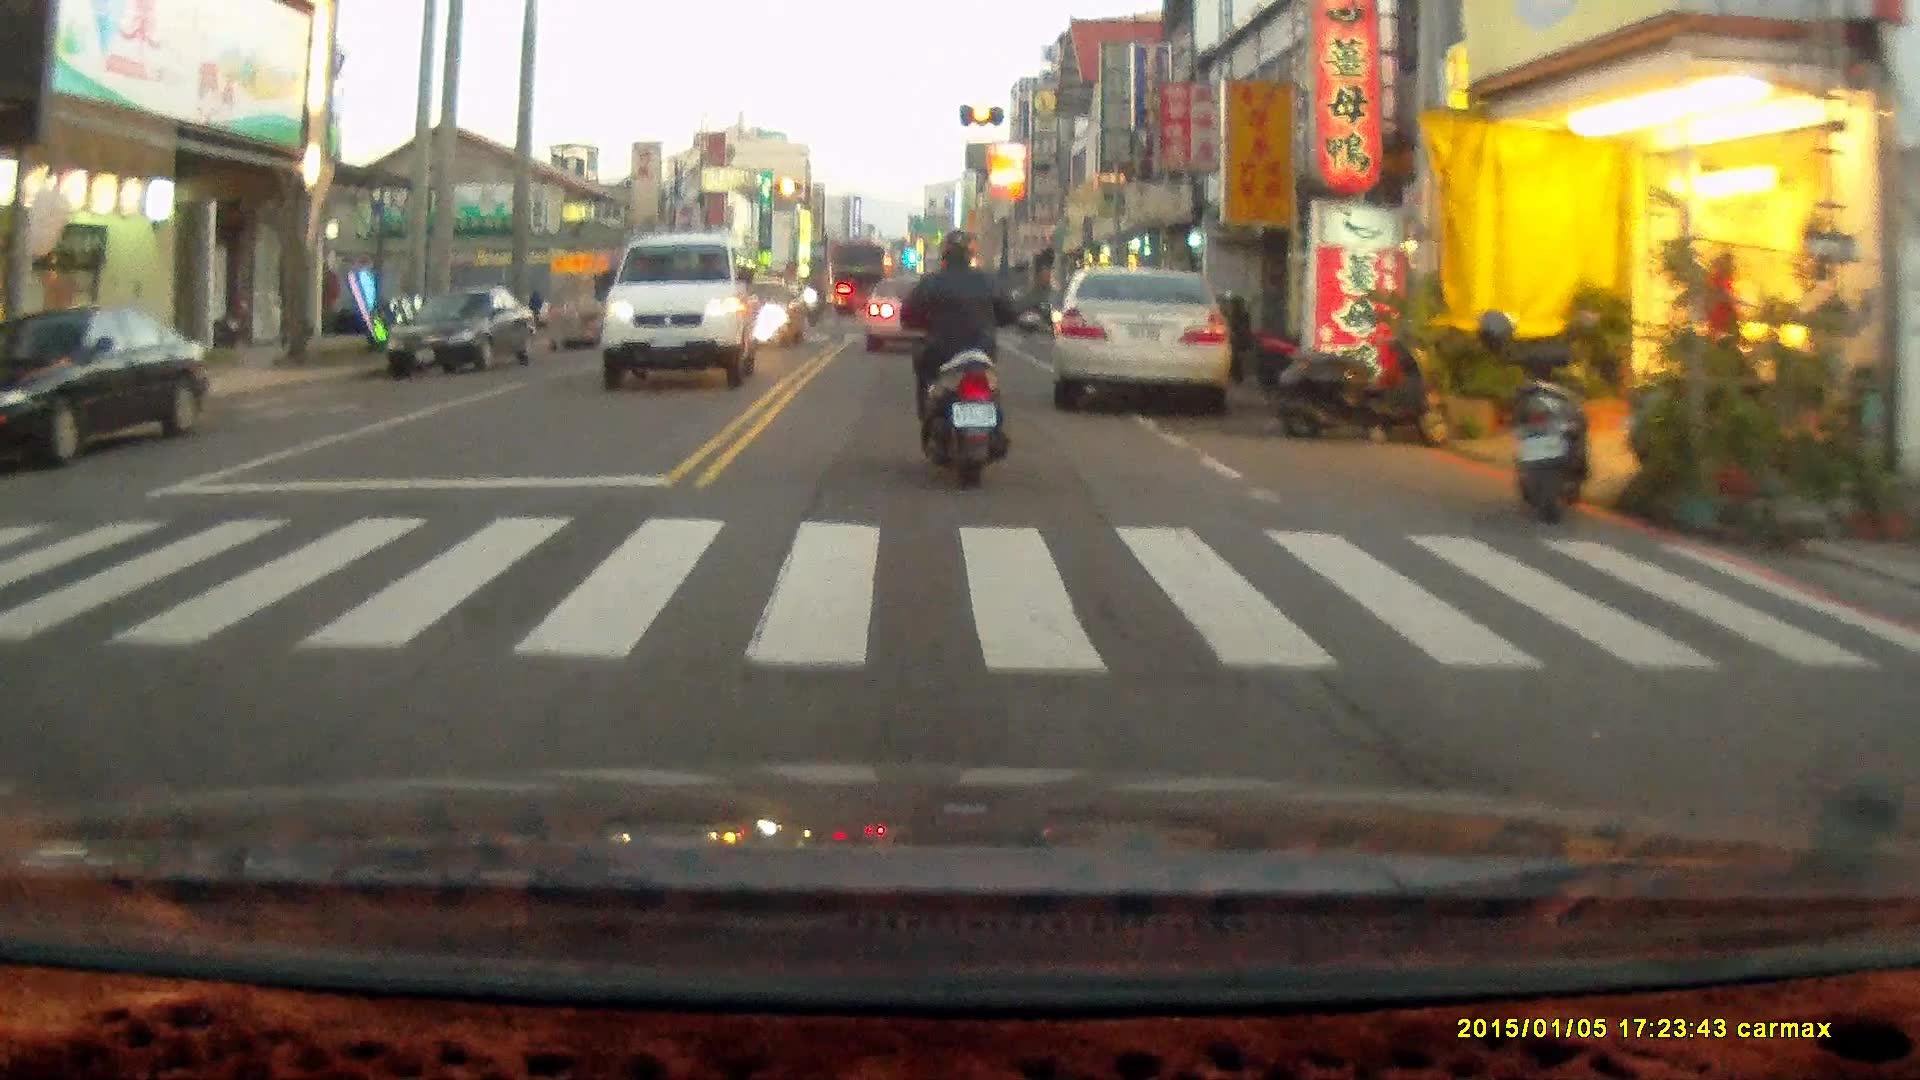pedestrian: (1701, 251, 1743, 400)
rider: (896, 226, 1019, 490)
vehicle: (1, 304, 212, 473), (1052, 268, 1233, 411), (603, 235, 756, 395), (387, 285, 535, 386), (861, 272, 961, 350)
